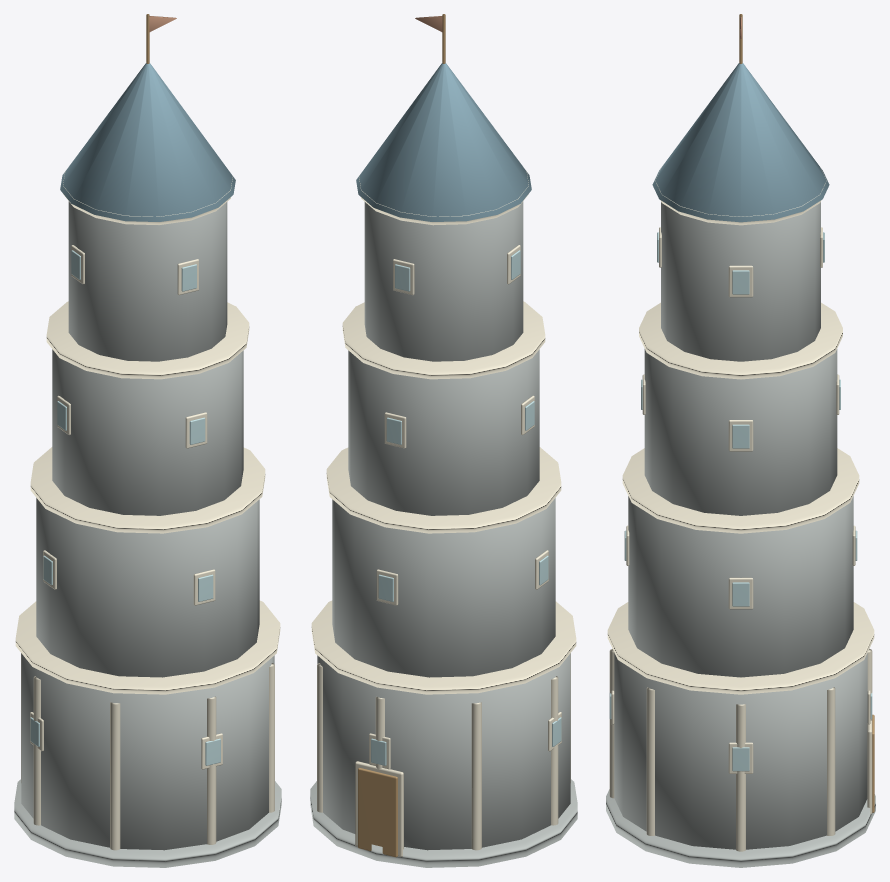
The model's file is climb.glb.
3 views of the same model, side by side, from view 1: azimuth 30°, elevation 25°; view 2: azimuth 150°, elevation 25°; view 3: azimuth 270°, elevation 25° (orthographic).
Bounding box in the file's own units: 6.64 × 21.62 × 6.64.
